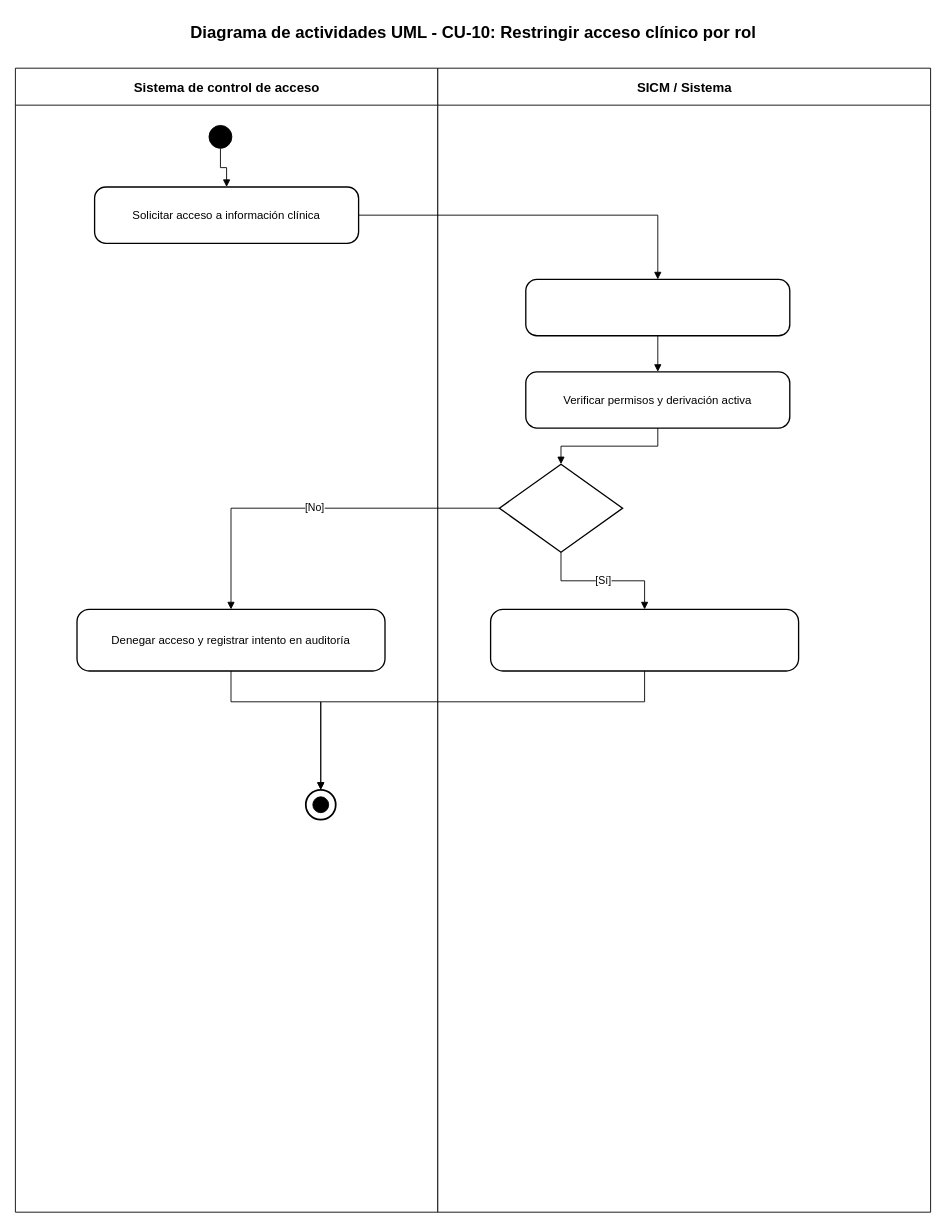
This 946x1228 diagram has some shape labels left out. Each missing label, with the centre of its shape:
Identificar usuario y rol: (657,307)
Mostrar información permitida: (644,639)
¿Acceso autorizado?: (560,507)
